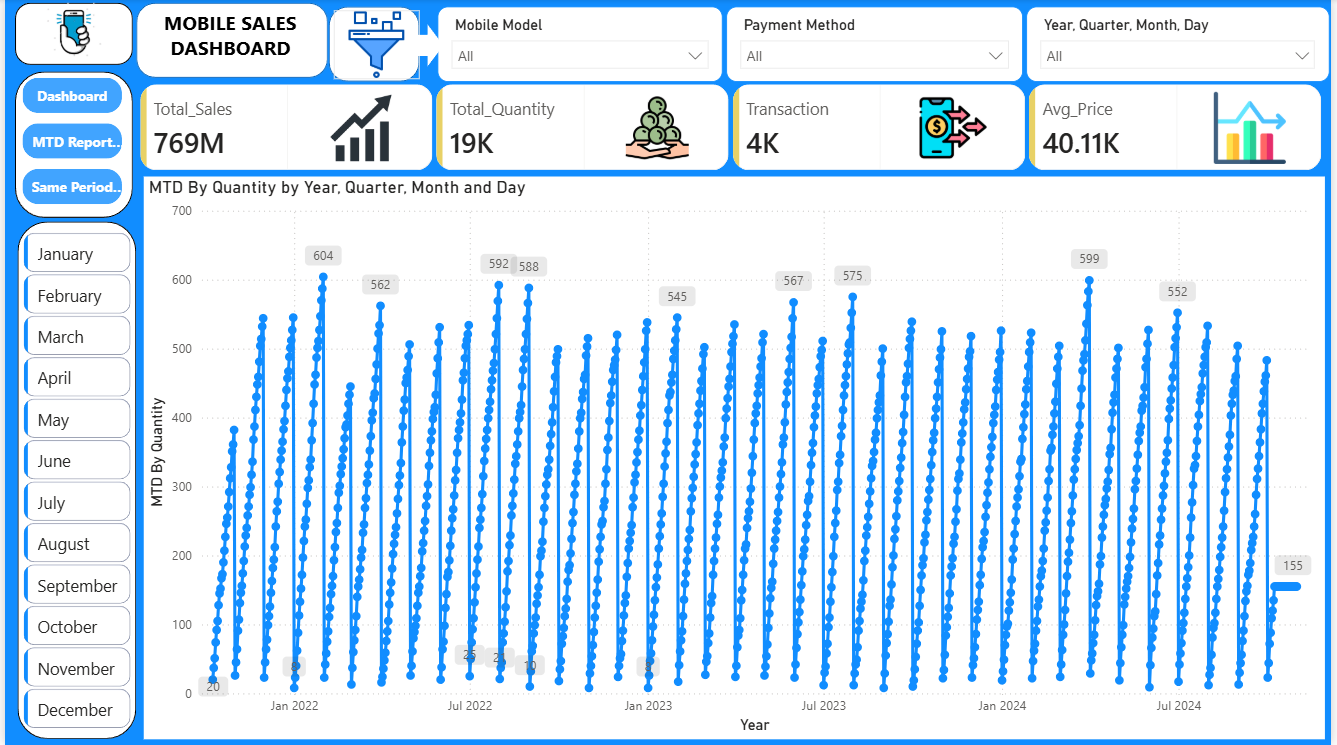

The page's visual inventory and layout, read from the dashboard file:
{"tool":"powerbi","page":{"name":"MTD Report By Quantity","canvas":[1280,720],"ordinal":3},"visuals":[{"type":"shape","box":[10,3.8,113.8,60],"z":0},{"type":"image","box":[10,3.8,113.8,60],"z":1000},{"type":"shape","box":[10,70,113.8,141.2],"z":2000},{"type":"shape","box":[12.1,214.7,114.6,499.5],"z":3000},{"type":"advancedSlicerVisual","fields":{"Values":["Custom_calender.Date.Variation.Date Hierarchy.Month"]},"box":[13.3,220.8,113.4,493.4],"z":4000},{"type":"cardVisual","fields":{"Data":["Sales_Data.Total_Sales","Sales_Data.Total_Quantity","Sales_Data.Transaction","Sales_Data.Avg_Price"]},"box":[123.8,76.2,1155,95],"z":5000},{"type":"slicer","fields":{"Values":["Sales_Data.Mobile Model"]},"box":[417.5,7.5,275,72.5],"z":6000},{"type":"slicer","fields":{"Values":["Sales_Data.Payment Method"]},"box":[696.2,7.5,286.2,72.5],"z":7000},{"type":"slicer","fields":{"Values":["Custom_calender.Date.Variation.Date Hierarchy.Year","Custom_calender.Date.Variation.Date Hierarchy.Quarter","Custom_calender.Date.Variation.Date Hierarchy.Month","Custom_calender.Date.Variation.Date Hierarchy.Day"]},"box":[986.2,7.5,292.5,72.5],"z":8000},{"type":"shape","box":[312.5,7.5,87.5,72.5],"z":9000},{"type":"image","box":[317.5,11.2,82.5,66.2],"z":10000},{"type":"shape","box":[392.5,23.8,31.2,41.2],"z":11000},{"type":"shape","box":[126.2,3.8,185,72.5],"z":12000},{"type":"textbox","box":[148.8,5,138.8,80],"z":13000},{"type":"pageNavigator","box":[17.3,76.5,96.3,123.5],"z":15000},{"type":"lineChart","fields":{"Y":["Sales_Data.MTD By Quantity"],"Category":["Custom_calender.Date.Variation.Date Hierarchy.Year","Custom_calender.Date.Variation.Date Hierarchy.Quarter","Custom_calender.Date.Variation.Date Hierarchy.Month","Custom_calender.Date.Variation.Date Hierarchy.Day"]},"box":[133.9,171.3,1140.1,542.9],"z":15001}]}

Visuals, with their boxes in screenshot pixels (x1, y1, x2, y2), scaled from the page's 1280x720 canvas onto the 1337x745 screenshot:
shape: <bbox>10, 4, 129, 66</bbox>
image: <bbox>10, 4, 129, 66</bbox>
shape: <bbox>10, 72, 129, 219</bbox>
shape: <bbox>13, 222, 132, 739</bbox>
advancedSlicerVisual - Custom_calender.Date.Variation.Date Hierarchy.Month: <bbox>14, 228, 132, 739</bbox>
cardVisual - Sales_Data.Total_Sales x Sales_Data.Total_Quantity: <bbox>129, 79, 1336, 177</bbox>
slicer - Sales_Data.Mobile Model: <bbox>436, 8, 723, 83</bbox>
slicer - Sales_Data.Payment Method: <bbox>727, 8, 1026, 83</bbox>
slicer - Custom_calender.Date.Variation.Date Hierarchy.Year x Custom_calender.Date.Variation.Date Hierarchy.Quarter: <bbox>1030, 8, 1336, 83</bbox>
shape: <bbox>326, 8, 418, 83</bbox>
image: <bbox>332, 12, 418, 80</bbox>
shape: <bbox>410, 25, 443, 67</bbox>
shape: <bbox>132, 4, 325, 79</bbox>
textbox: <bbox>155, 5, 300, 88</bbox>
pageNavigator: <bbox>18, 79, 119, 207</bbox>
lineChart - Sales_Data.MTD By Quantity x Custom_calender.Date.Variation.Date Hierarchy.Year: <bbox>140, 177, 1331, 739</bbox>
